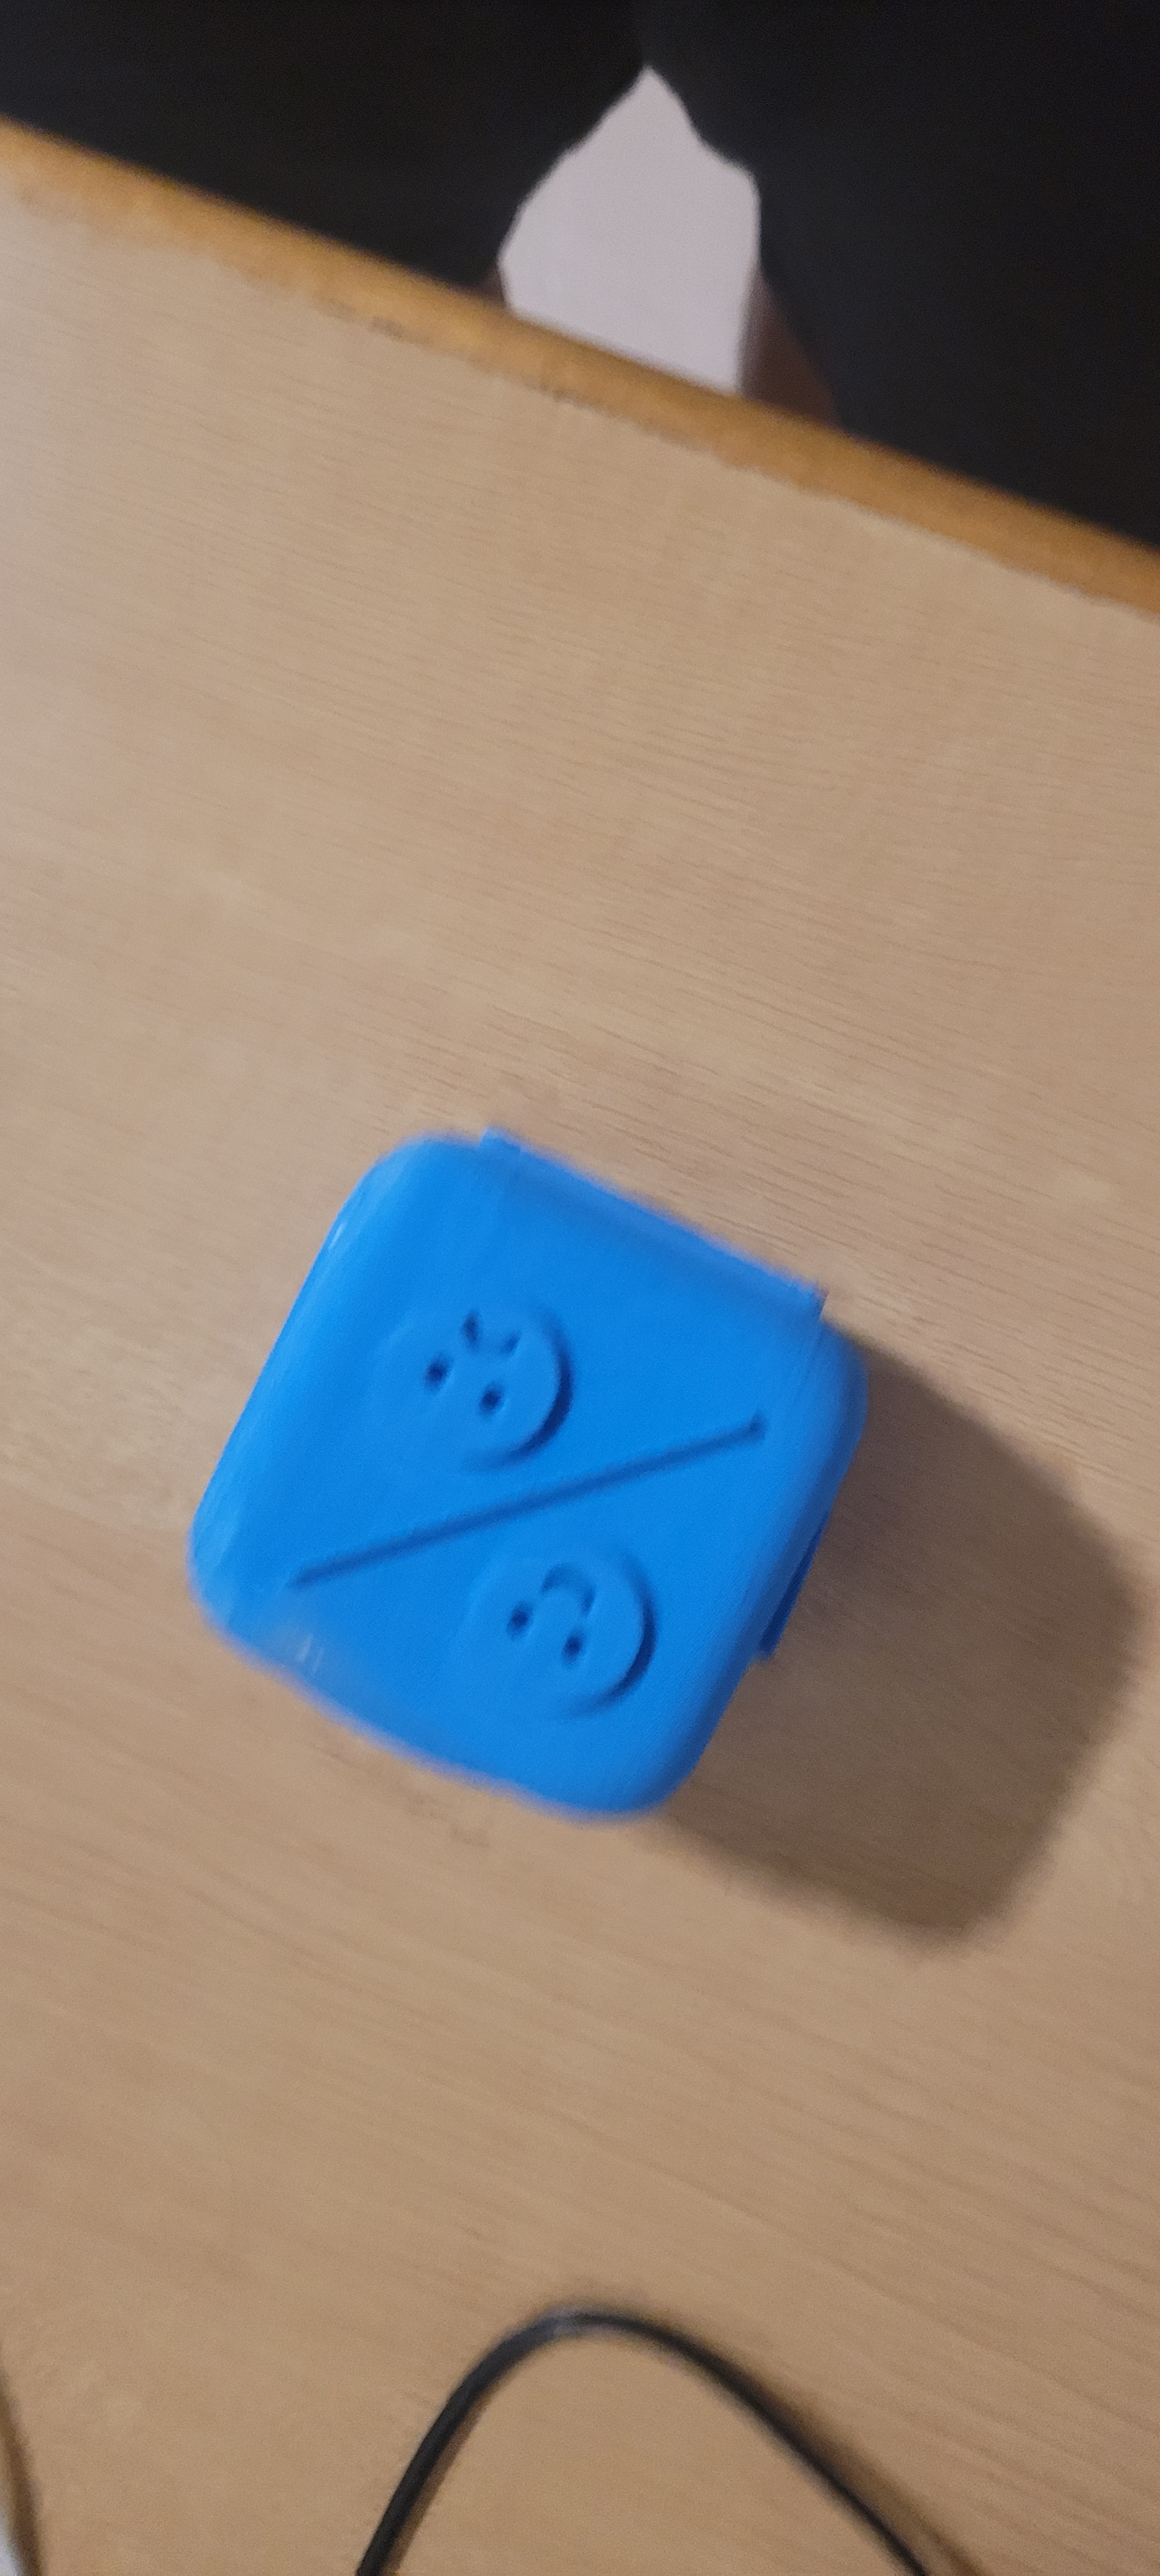Like/Dislike: (228, 1099, 744, 1751)
